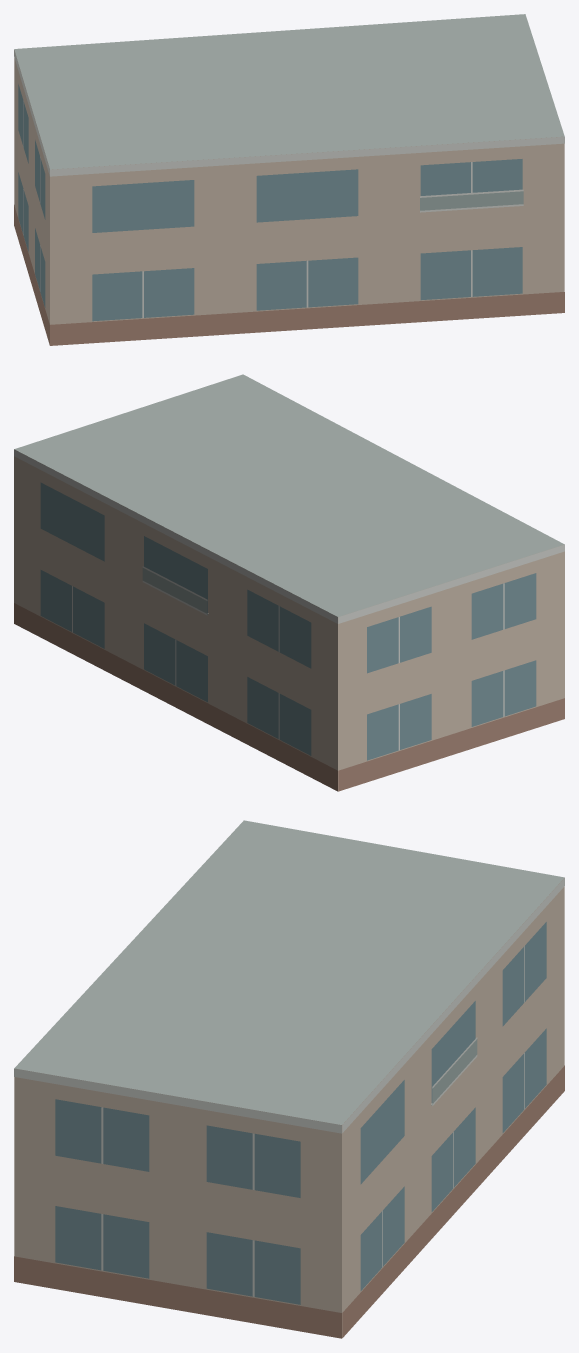
File: survey-upis-32951704.glb
3 views of the same model, one above another, from view 1: azimuth 30°, elevation 25°; view 2: azimuth 150°, elevation 25°; view 3: azimuth 270°, elevation 25° (orthographic). The views are drawn at different scales.
Visible parts, largest first — view 1: survey-upis-32951704.tmp; view 2: survey-upis-32951704.tmp; view 3: survey-upis-32951704.tmp.
Boxes of the visible parts, left/top/right/bottom form: survey-upis-32951704.tmp: left=14, top=14, right=564, bottom=345; survey-upis-32951704.tmp: left=14, top=374, right=564, bottom=791; survey-upis-32951704.tmp: left=14, top=820, right=564, bottom=1338.
Size of the model in its own units: 18.69 by 6.1 by 14.27.
